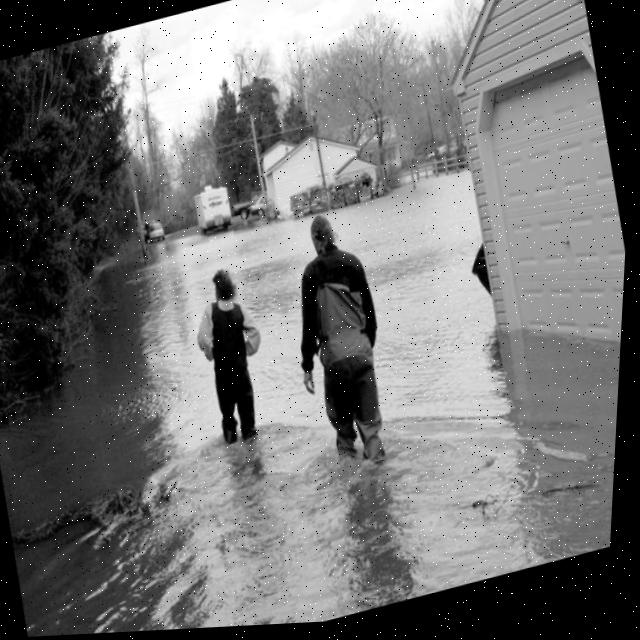civilian: (264, 196, 422, 490), (180, 256, 285, 456)
